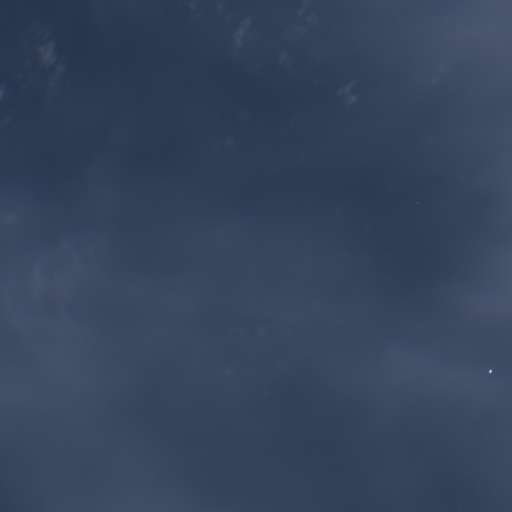Iceberg: (488, 369, 492, 373)
